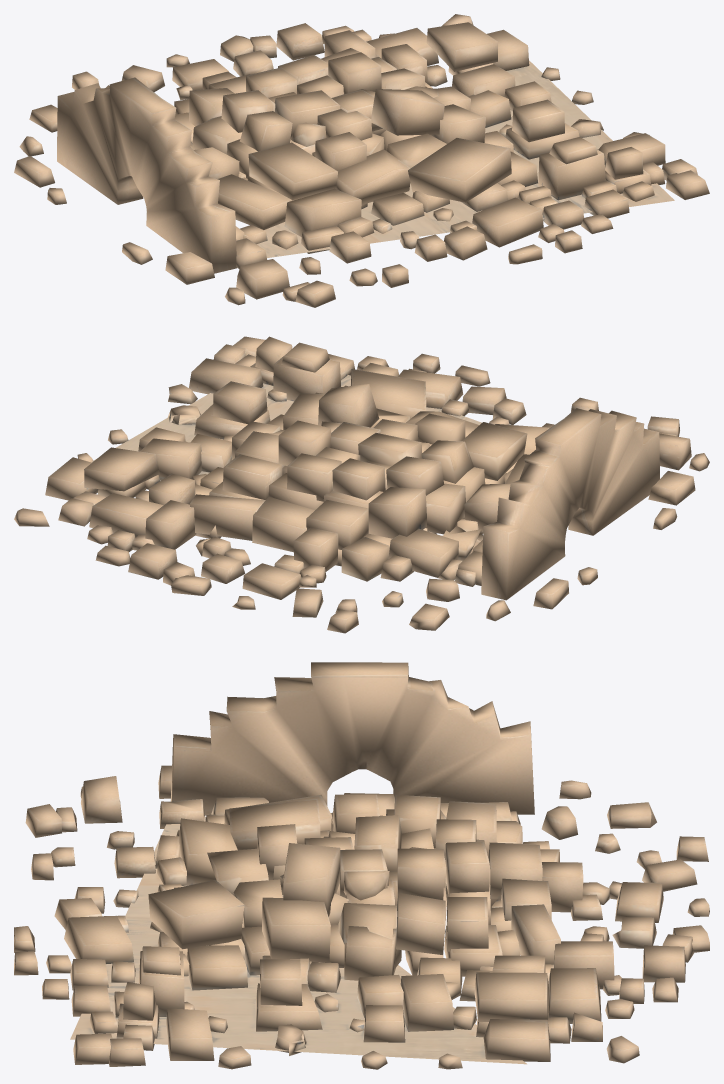
The model's file is meshy-c4-d4.glb.
3 renders of one model, top to bottom at view 1: azimuth 30°, elevation 25°; view 2: azimuth 150°, elevation 25°; view 3: azimuth 270°, elevation 25°, orthographic. The views are drawn at different scales.
Bounding box in the file's own units: 1 × 0.2312 × 1.
1 material, 1 textured.
